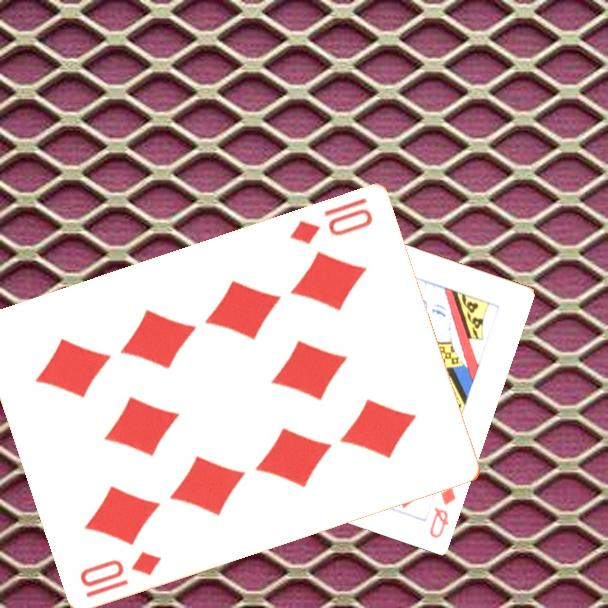d10: (285, 195, 376, 248), (76, 548, 164, 601)
d12: (426, 482, 459, 541)
